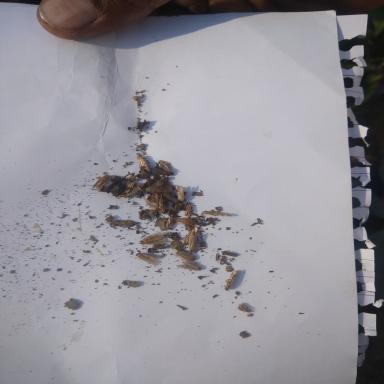pbw: (135, 251, 167, 266), (222, 270, 241, 292), (138, 232, 169, 245), (176, 258, 204, 272), (172, 249, 200, 262), (91, 172, 110, 190), (156, 158, 176, 175), (184, 229, 200, 250), (135, 152, 151, 173), (174, 216, 200, 227), (176, 182, 186, 205), (164, 214, 174, 231), (184, 202, 193, 217)
